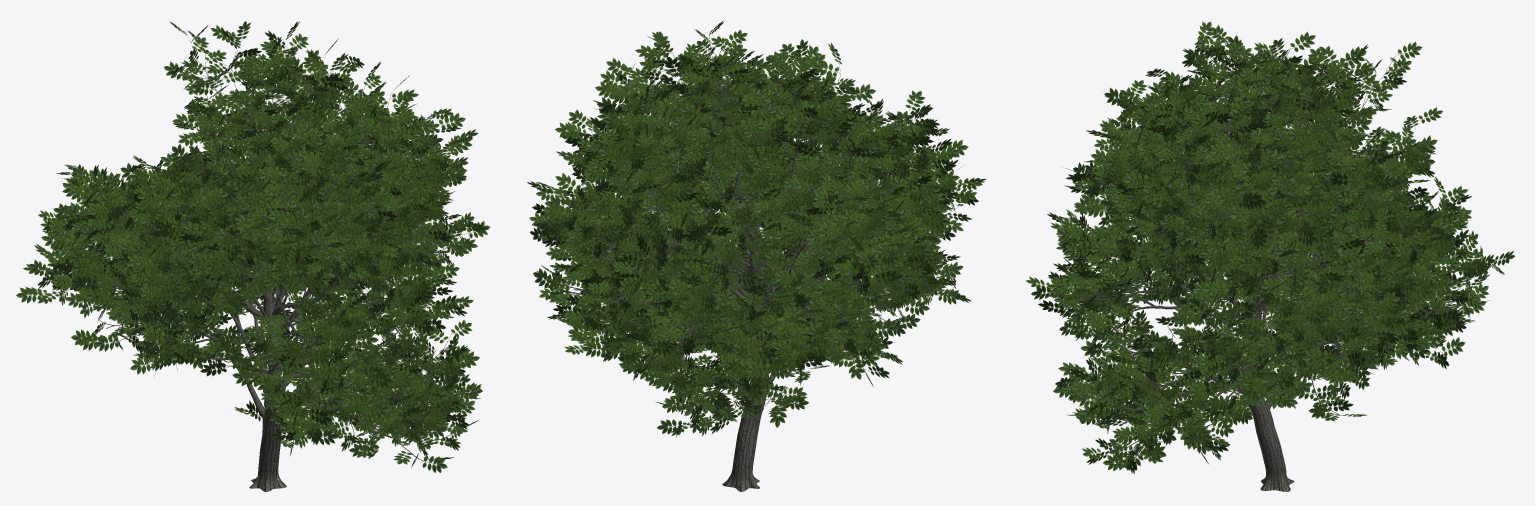
The model's file is Vitex_parviflora.glb.
The picture shows the model from 3 angles, left to right: view 1: azimuth 30°, elevation 25°; view 2: azimuth 150°, elevation 25°; view 3: azimuth 270°, elevation 25°; orthographic projection.
Visible parts, largest first — view 1: Diospyros_discolor; view 2: Diospyros_discolor; view 3: Diospyros_discolor.
Part boxes in pixels (x1,y1,x2,y2): Diospyros_discolor: [16, 21, 490, 491]; Diospyros_discolor: [527, 20, 986, 491]; Diospyros_discolor: [1026, 21, 1514, 491].
Bounding box in the file's own units: 16.44 × 16.95 × 17.23.
Materials: 2 (2 with a texture image).
